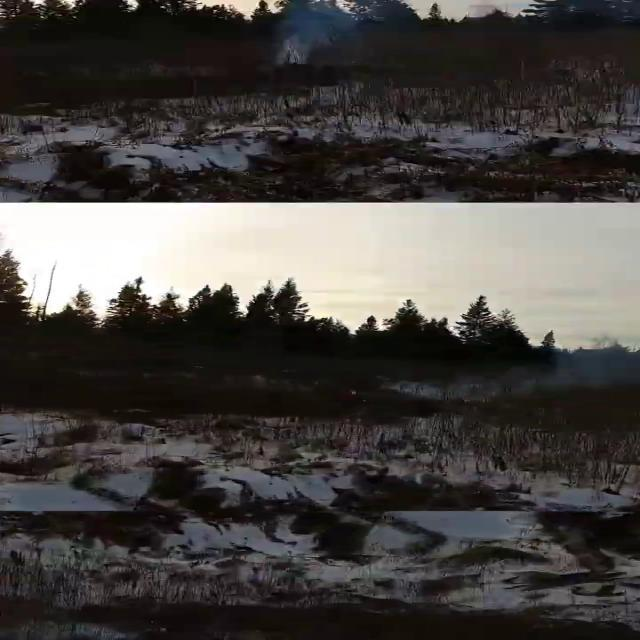Smoke: (501, 335, 640, 401), (278, 4, 340, 64)
